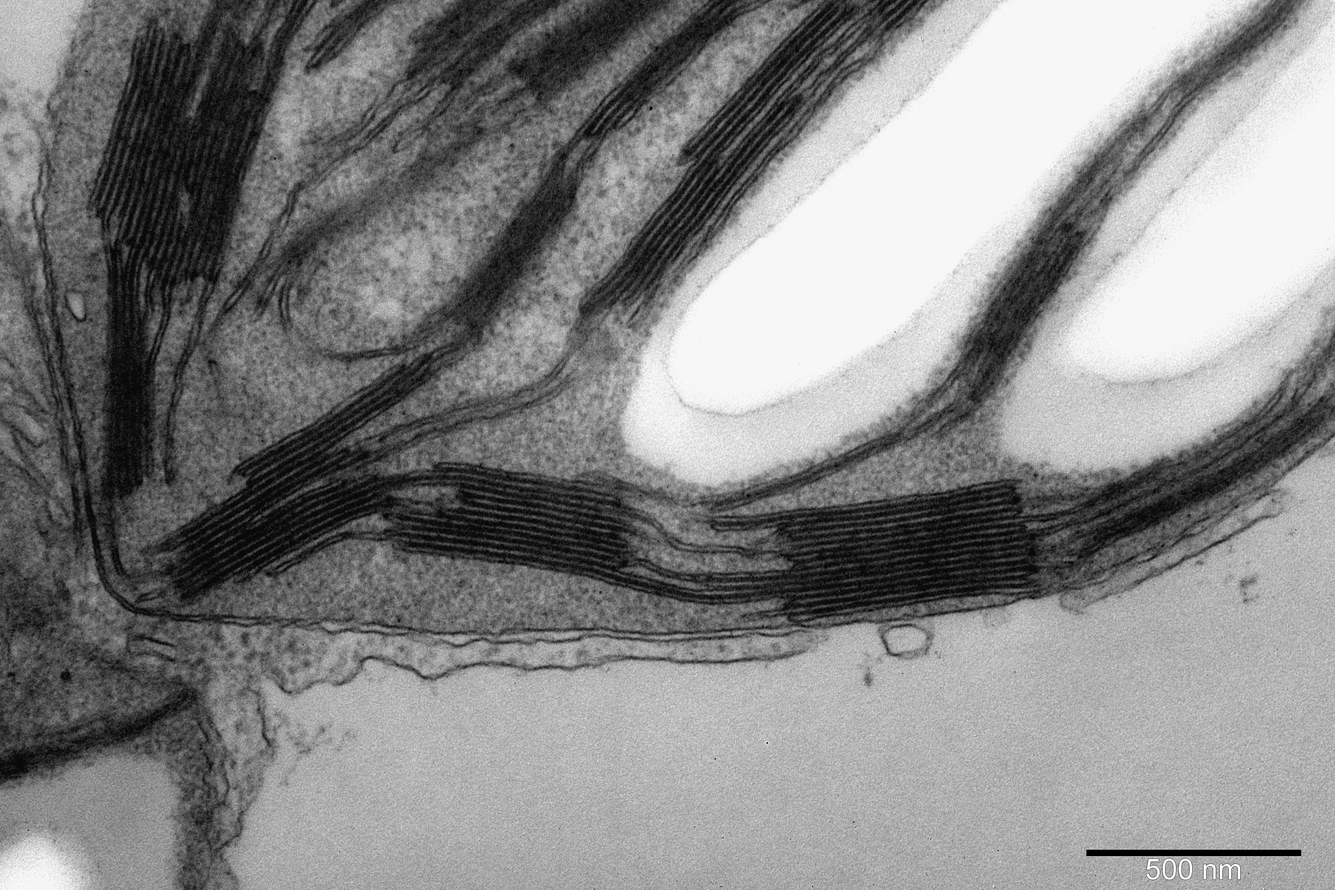granum: (167, 351, 441, 610), (82, 20, 288, 284), (696, 476, 1045, 625), (579, 91, 805, 314), (1081, 374, 1335, 560), (957, 143, 1130, 402), (381, 459, 632, 588), (680, 0, 862, 161), (579, 0, 775, 139), (447, 167, 579, 339), (281, 147, 446, 264), (511, 0, 680, 104), (1166, 0, 1310, 103), (99, 265, 157, 500), (439, 0, 564, 90), (404, 0, 514, 80), (306, 0, 412, 65), (860, 0, 932, 42)
